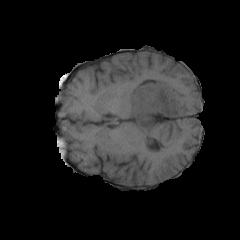glioma: (129, 79, 179, 140)
